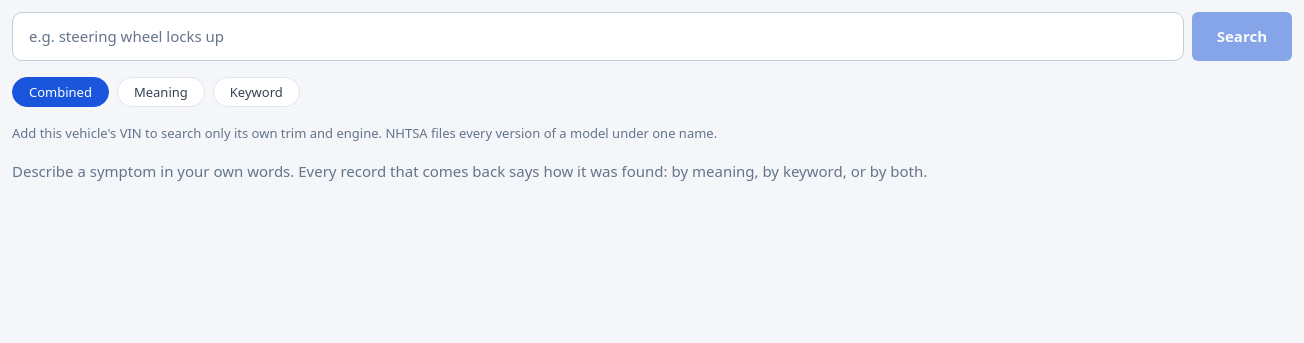
Test: SearchPage › stops inviting once there are results to read
Step 1. Type "steering locks" into the field named "Search phrase" → point(598, 37), box [12,12,1184,61]
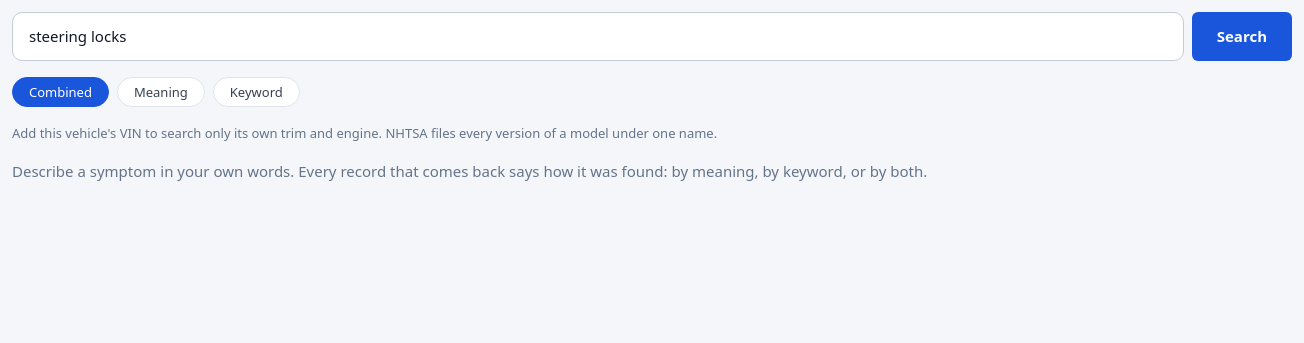
Step 2. Submit the form with test id "search-box", box [12,12,1292,61]
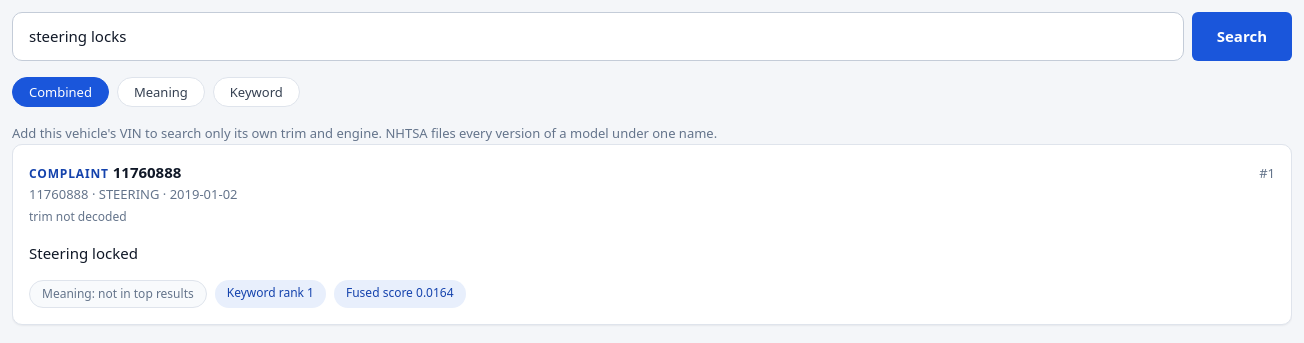
Expected: the list item with test id "result-card" is shown, [12,144,1292,325]
Expected: the text with test id "search-invitation" is gone
